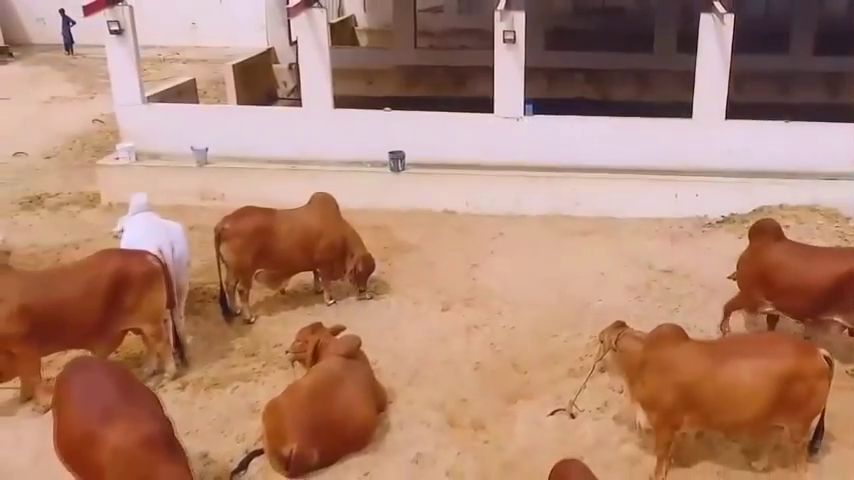bo: (579, 311, 827, 477), (4, 242, 177, 397), (235, 318, 396, 472), (212, 183, 377, 317), (704, 208, 854, 351), (44, 351, 202, 480), (109, 194, 202, 327)
